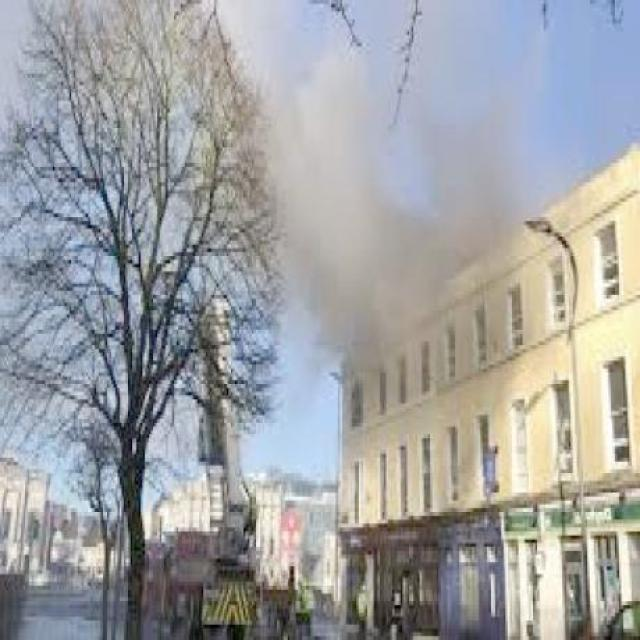Smoke: (242, 29, 512, 328)
